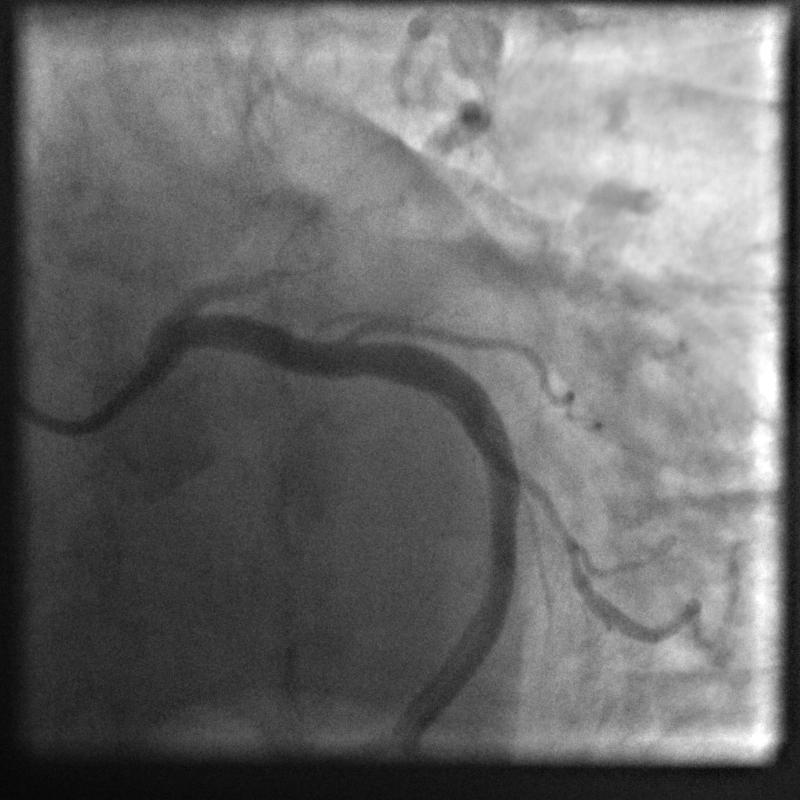Stenosis: (497, 432, 586, 573)
